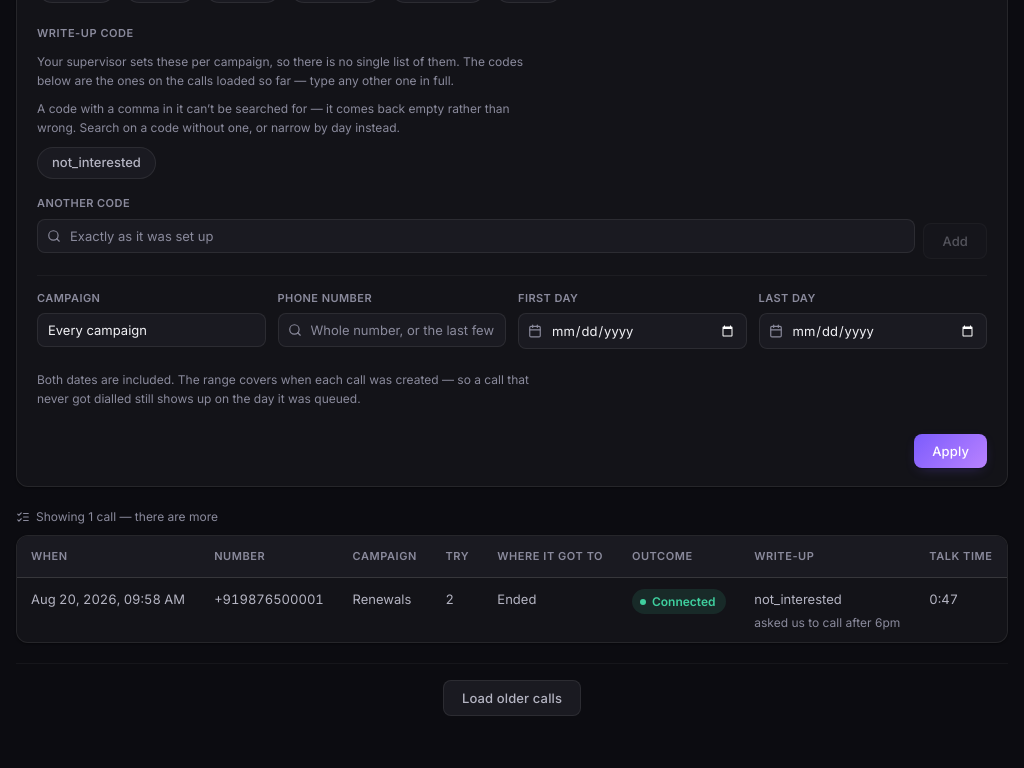
Test: AgentAttemptsPage — the three absences › keeps the rows on screen when LOAD MORE is what failed
This screenshot has width=1024, height=768.
(page scrolled)
Click the button with test id "attempts-load-more" at (512, 698), box [443,680,581,716]
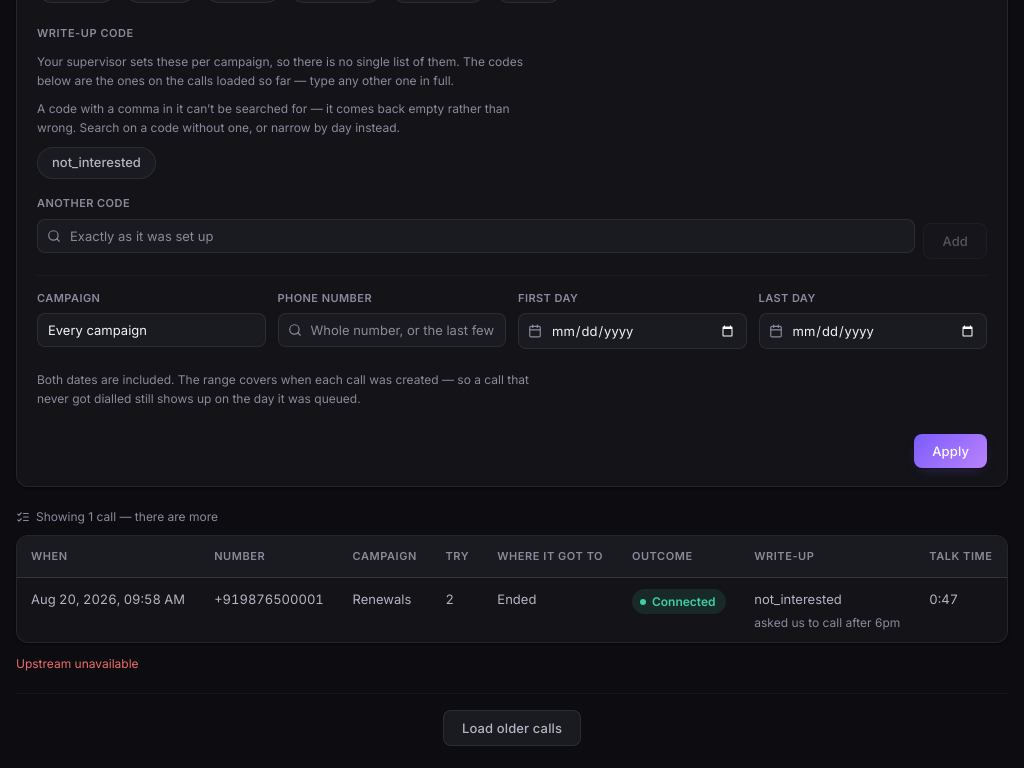
Result: the message with test id "attempts-more-error" reads "Upstream unavailable" at [16,656,139,671]
